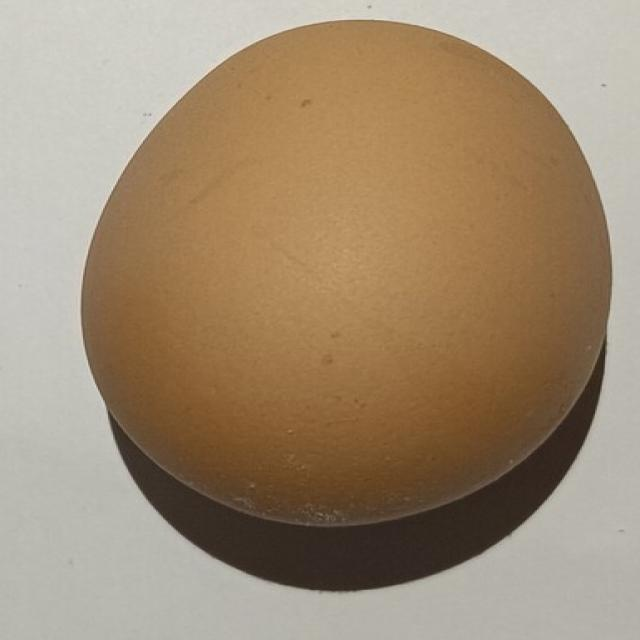fresh: (50, 0, 627, 545)
